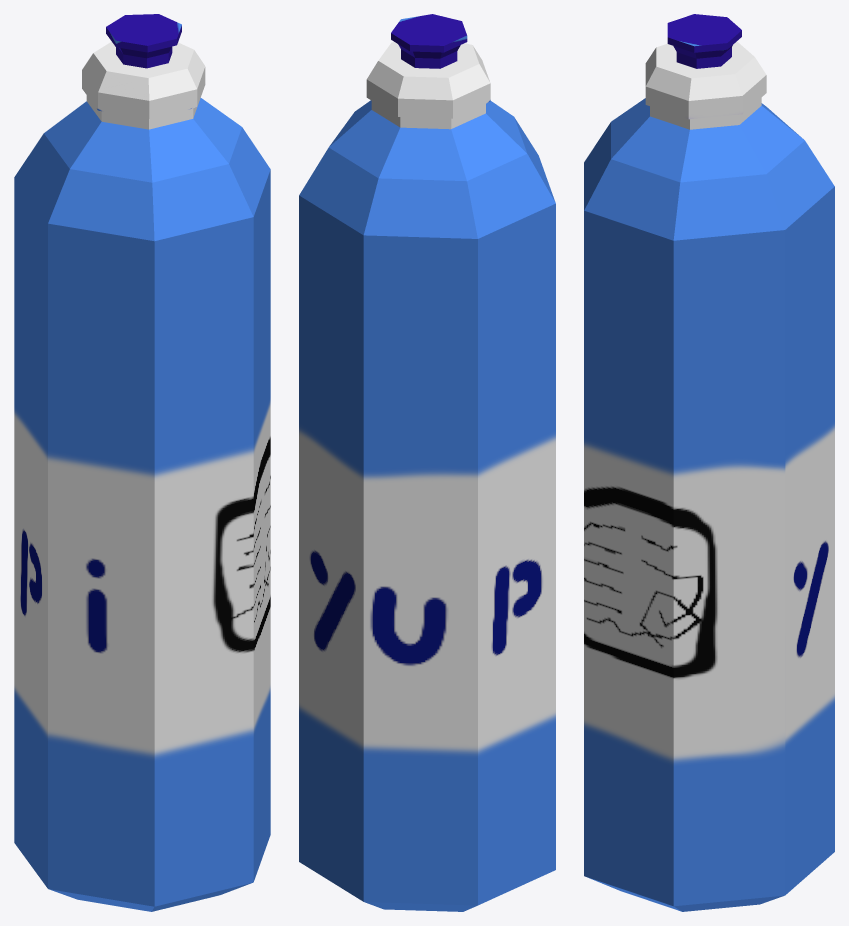
File: Detergente.fbx
3 views of the same model, side by side, from view 1: azimuth 30°, elevation 25°; view 2: azimuth 150°, elevation 25°; view 3: azimuth 270°, elevation 25° (orthographic).
Parts seen in each view (by area): view 1: Cylinder; view 2: Cylinder; view 3: Cylinder.
Part boxes in pixels (x1,y1,x2,y2): Cylinder: (14,14,270,911); Cylinder: (299,14,555,911); Cylinder: (584,14,834,911).
Size of the model in its own units: 132 by 480 by 129.
